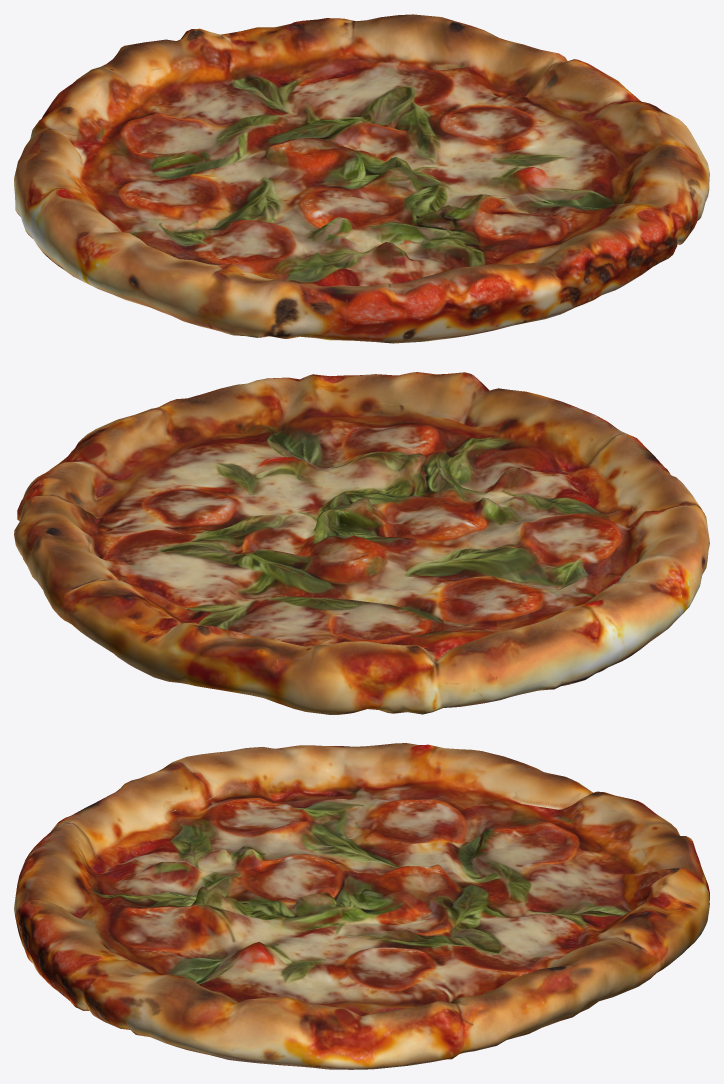
File: Pizza.glb
The picture shows the model from 3 angles, top to bottom: view 1: azimuth 30°, elevation 25°; view 2: azimuth 150°, elevation 25°; view 3: azimuth 270°, elevation 25°; orthographic projection. The views are drawn at different scales.
Size of the model in its own units: 2.01 by 0.2124 by 1.99.
1 material, 1 textured.
